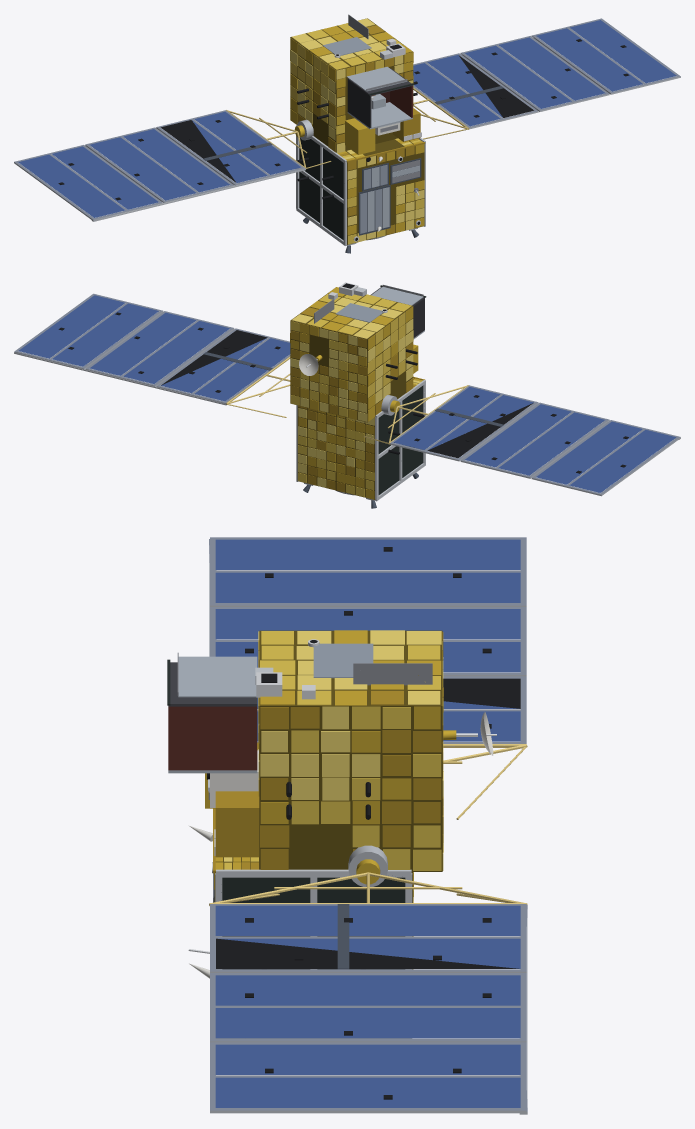
File: gosat.glb
The picture shows the model from 3 angles, top to bottom: view 1: azimuth 30°, elevation 25°; view 2: azimuth 150°, elevation 25°; view 3: azimuth 270°, elevation 25°; orthographic projection. The views are drawn at different scales.
Parts seen in each view (by area): view 1: solar-panel, body, foil; view 2: solar-panel, foil, body; view 3: solar-panel, body, foil.
Part boxes in pixels (x1,y1,x2,y2): solar-panel: [18, 20, 676, 217]; body: [14, 14, 680, 253]; foil: [290, 18, 425, 244]; solar-panel: [19, 295, 676, 492]; foil: [290, 287, 424, 499]; body: [14, 282, 680, 508]; solar-panel: [215, 539, 520, 1107]; body: [167, 537, 527, 1114]; foil: [205, 630, 456, 969].
Size of the model in its own units: 13.7 by 4.23 by 3.64.
